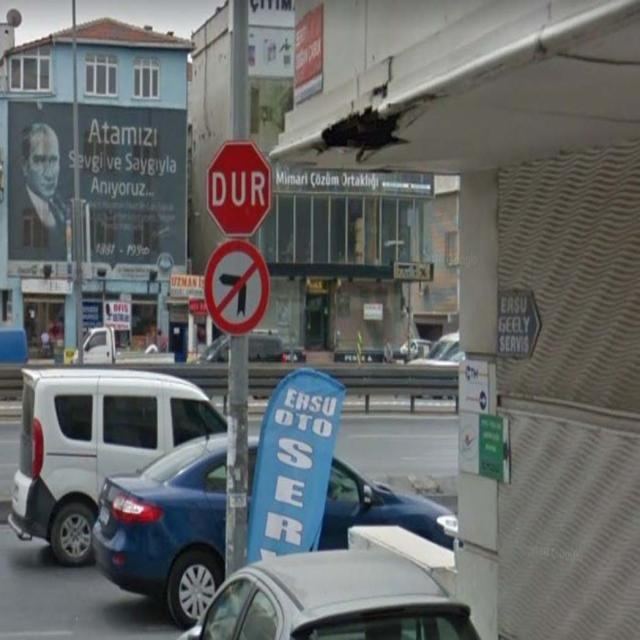dur: (204, 138, 273, 238)
soladonulmez: (202, 239, 270, 337)
